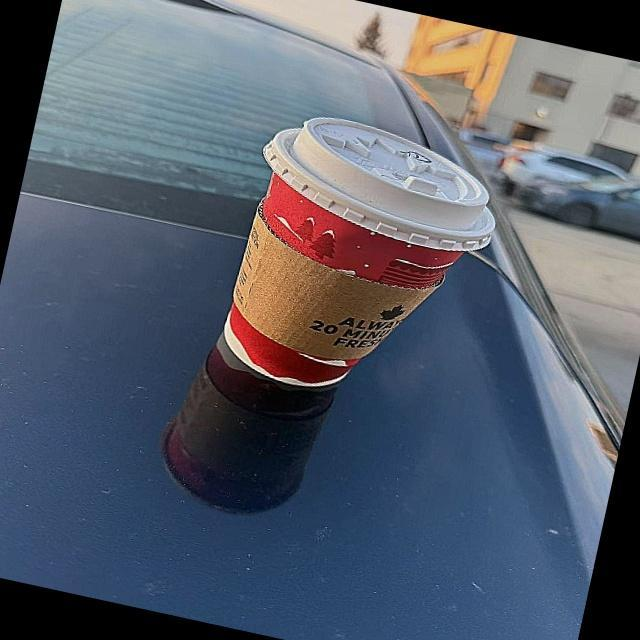timmies: (212, 99, 502, 424)
